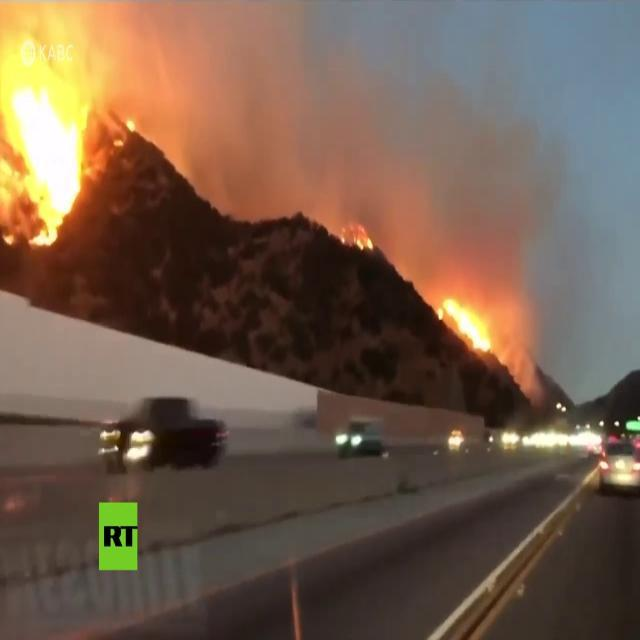Fire: (15, 76, 88, 205), (446, 293, 494, 347)
Smoke: (114, 26, 324, 196), (344, 119, 524, 259)
